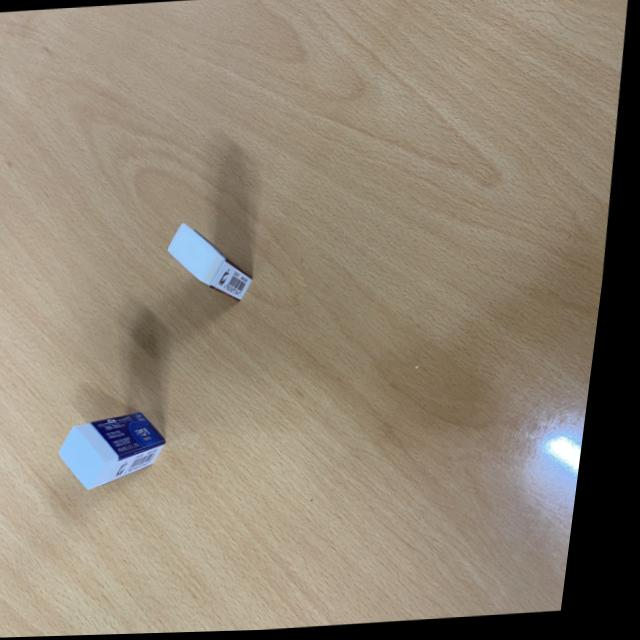blue: (64, 395, 187, 492)
red: (164, 214, 272, 307)
